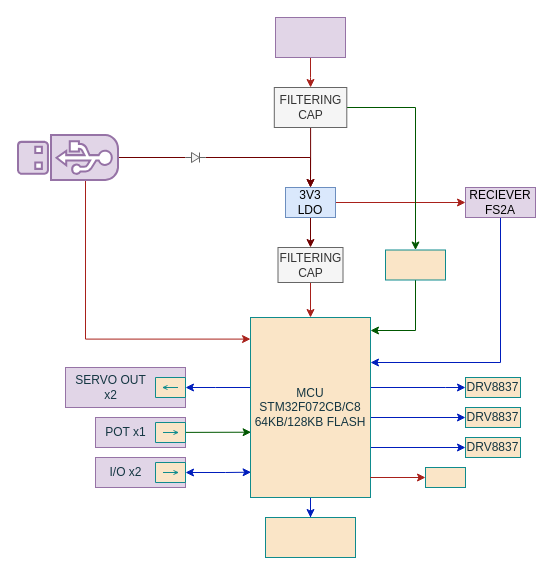
Some shapes in this 553 by 575 pixel diagram are drawn without their labels. The shapes that lost their labels are listed below. From the top down, each one's centre as x and y in pixels, then its label:
At (310,37): "BATTERY".
At (415,264): "VBAT SENSE".
At (445,477): "LED".
At (310,537): "GYRO/ACCEL LSM6DS3".
